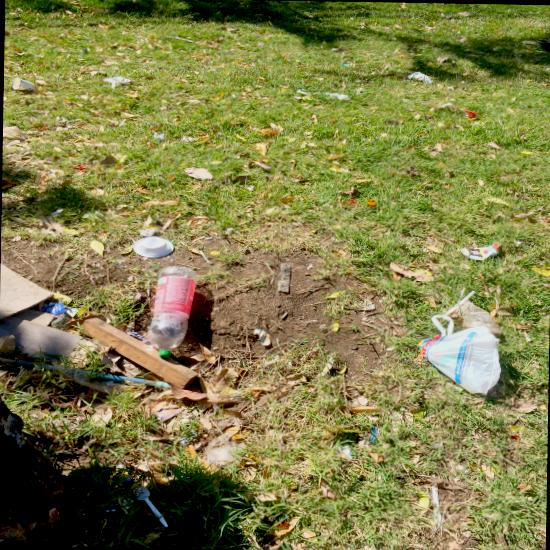Clear plastic bottle: (147, 265, 197, 357)
Other carton: (42, 302, 65, 314)
Other plastic: (126, 330, 158, 351), (153, 403, 185, 422)
Other plastic bottle: (207, 439, 246, 466), (431, 480, 441, 531)
Paper cup: (12, 77, 34, 90)
Plastic bottle cap: (158, 351, 171, 357)
Plastic film: (462, 303, 501, 336), (2, 125, 26, 140)
Plastic straw: (444, 290, 476, 314)
Plastic utensils: (136, 486, 168, 527)
Single-use carrier bag: (418, 314, 501, 394)
Spread tub: (133, 236, 173, 257)
Tissues: (407, 72, 433, 83), (139, 228, 160, 236)
Unlabeled litter: (458, 243, 500, 260), (295, 89, 350, 100), (338, 442, 352, 458), (102, 76, 131, 83), (368, 426, 378, 444), (64, 307, 80, 317), (51, 209, 63, 215), (343, 63, 348, 65)
